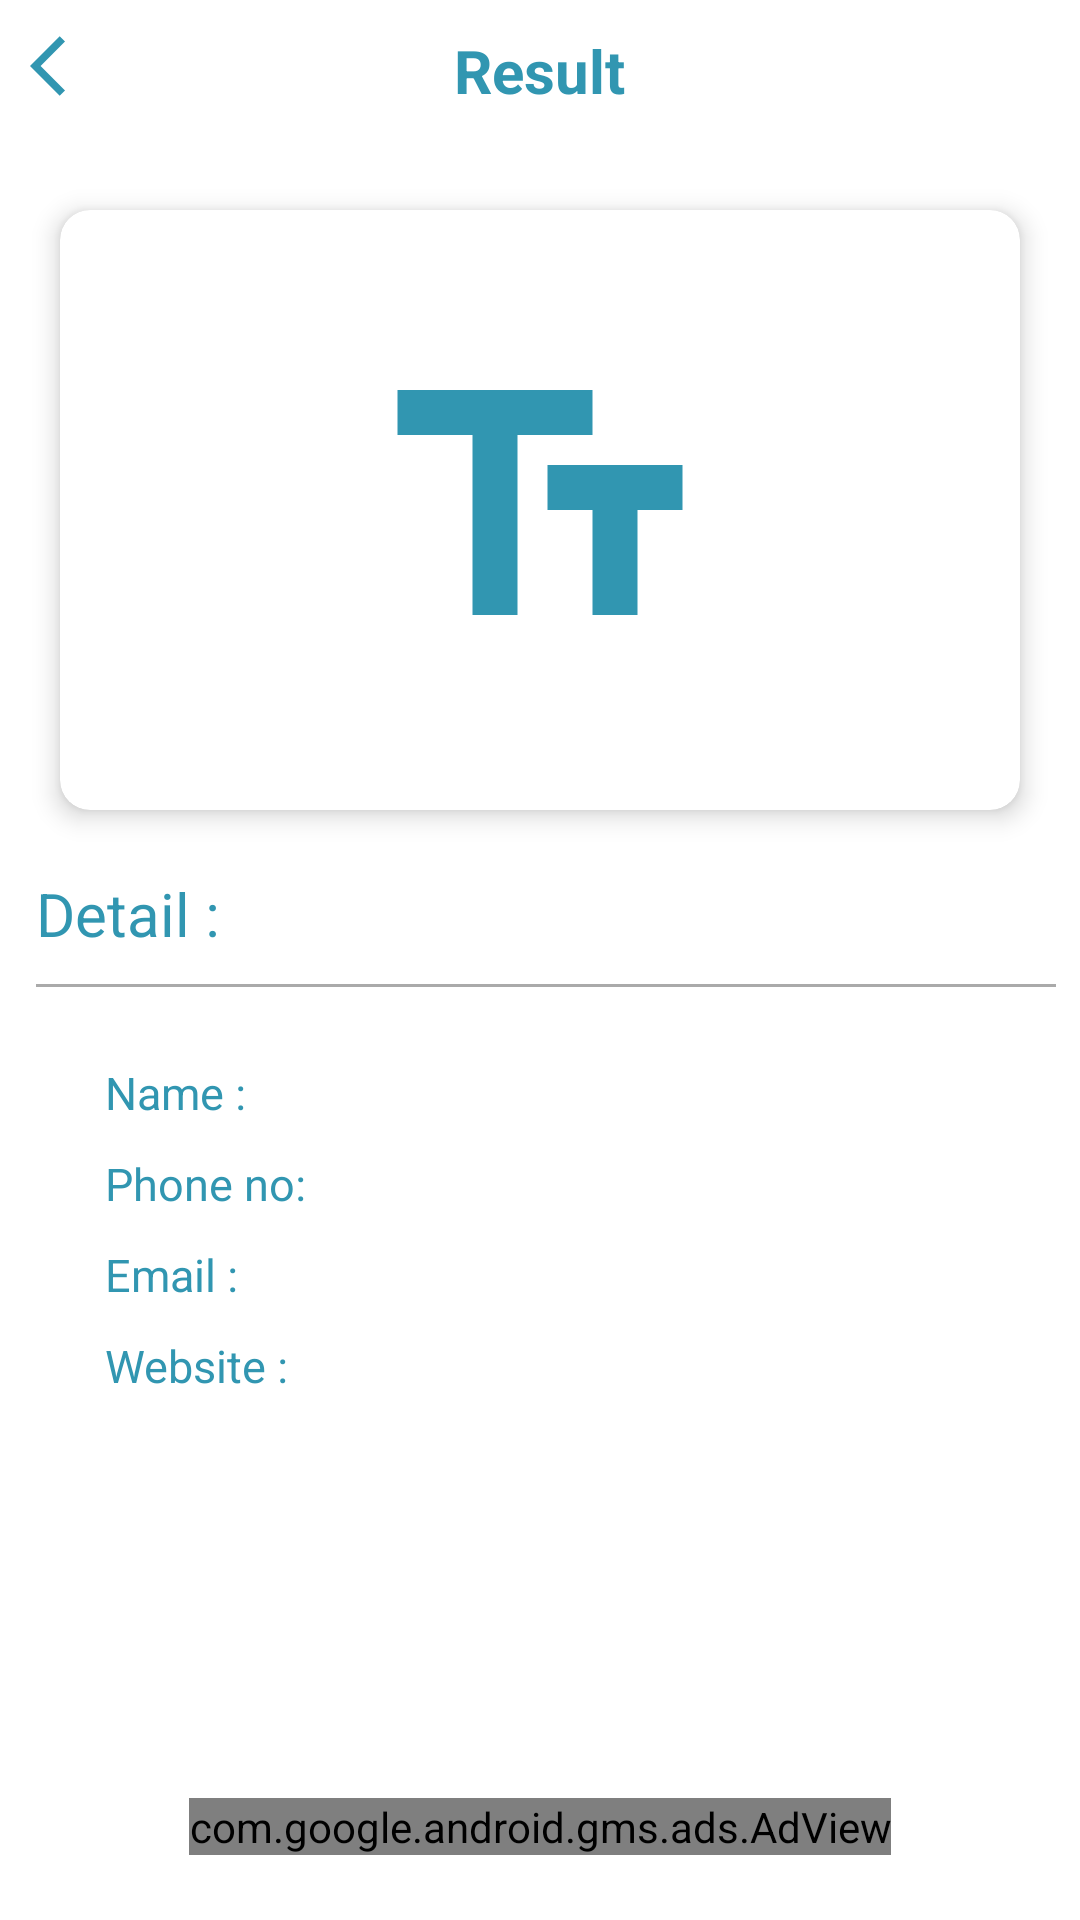

Locate icon controls on the screen. Image size 1080x1920, boxes as (x1=x1, y1=y1, x2=x2, y2=y2).
arrow back: (x1=30, y1=36, x2=65, y2=96)
text fields: (x1=397, y1=390, x2=683, y2=615)
